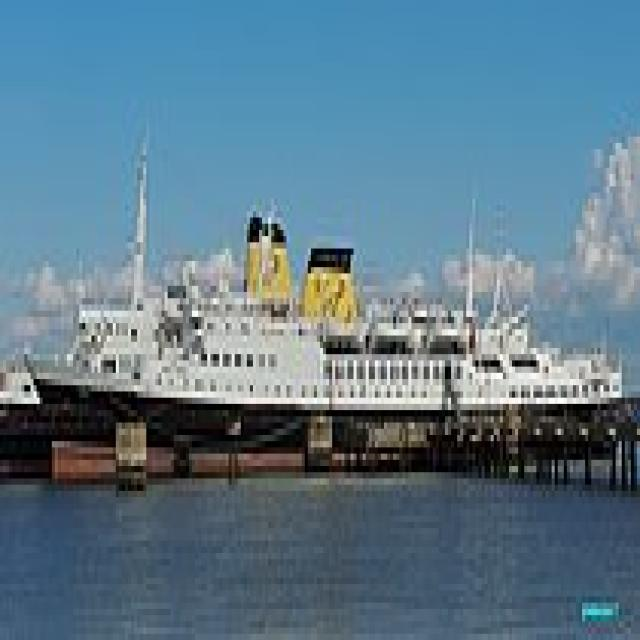Cruise: (18, 118, 622, 485)
